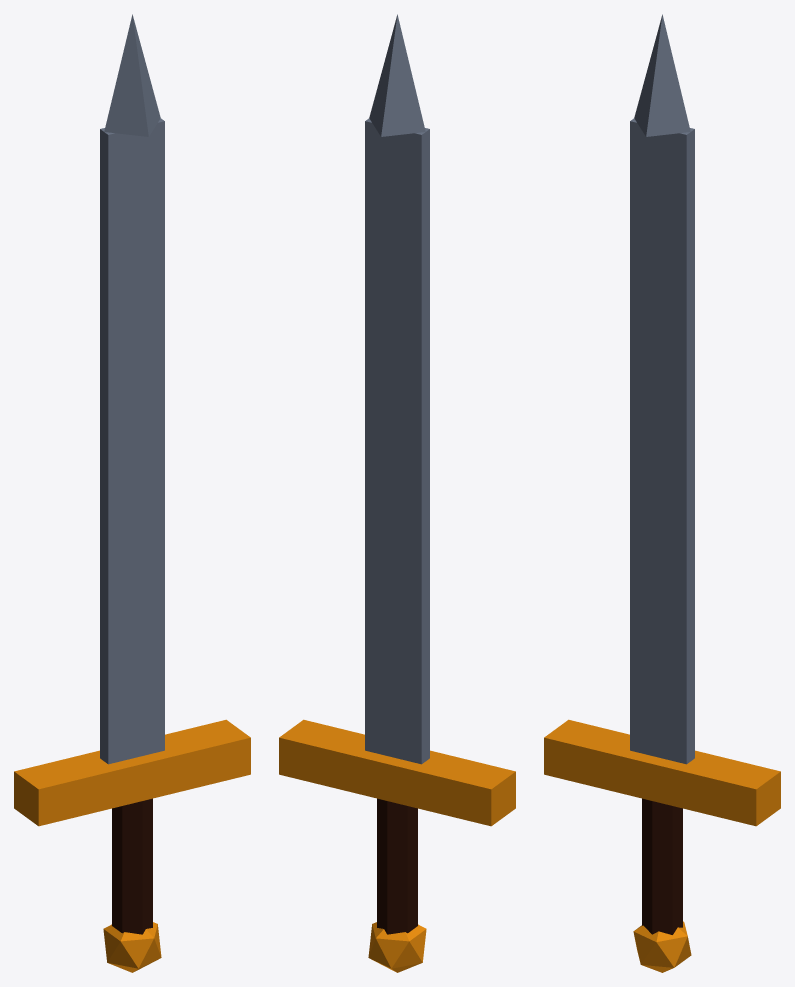
File: sword.obj
3 views of the same model, side by side, from view 1: azimuth 30°, elevation 25°; view 2: azimuth 150°, elevation 25°; view 3: azimuth 330°, elevation 25° (orthographic).
Visible parts, largest first — view 1: sword; view 2: sword; view 3: sword.
Boxes of the visible parts, <box> form: sword: <box>14,14,250,972</box>; sword: <box>279,14,515,972</box>; sword: <box>544,14,780,972</box>.
Bounding box in the file's own units: 0.3 × 1.29 × 0.08.
